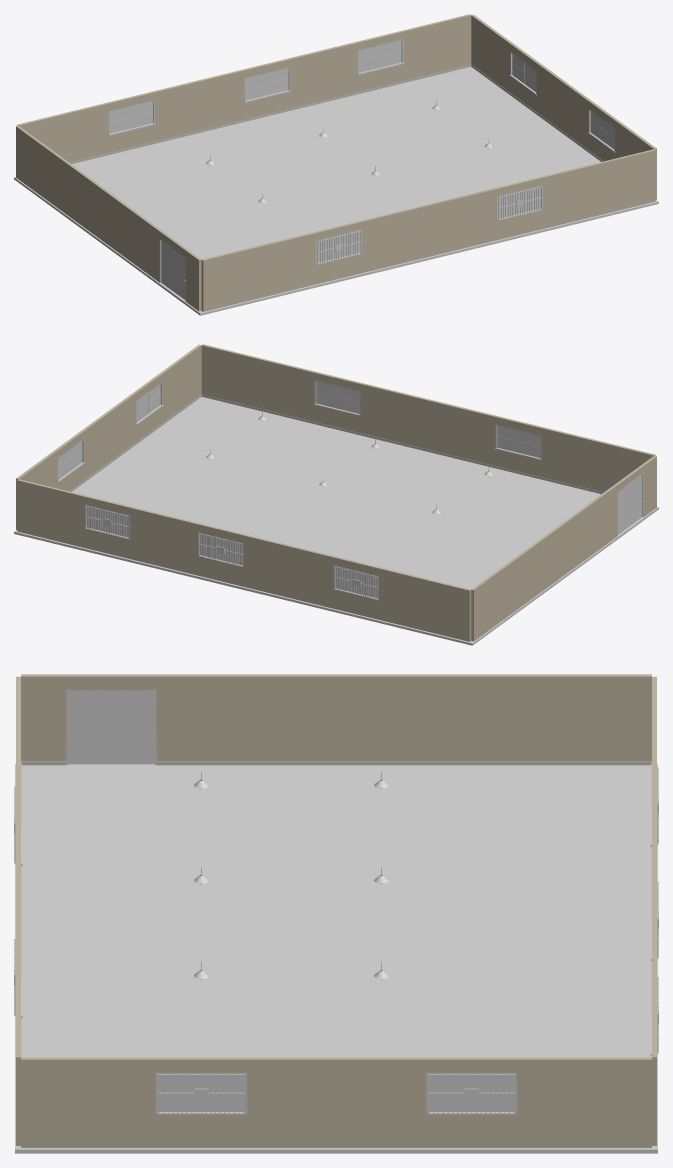
Rendered from room-hall-terrazzo.glb.
3 views of the same model, one above another, from view 1: azimuth 30°, elevation 25°; view 2: azimuth 150°, elevation 25°; view 3: azimuth 270°, elevation 25° (orthographic). The views are drawn at different scales.
Parts seen in each view (by area): view 1: floor, wall_front, wall_back, wall_left, wall_right, glass_wall_back, room-hall-terrazzo, glass_wall_front, glass_wall_right; view 2: floor, wall_back, wall_front, wall_left, wall_right, room-hall-terrazzo, glass_wall_back, glass_wall_front, glass_wall_right; view 3: floor, wall_left, wall_right, glass_wall_right, room-hall-terrazzo, wall_back, wall_front.
Boxes of the visible parts, x1,y1,x2,y2 form: floor: (72, 67, 600, 259); wall_front: (201, 149, 655, 311); wall_back: (17, 14, 471, 164); wall_left: (16, 125, 201, 311); wall_right: (471, 14, 656, 199); glass_wall_back: (110, 41, 401, 133); room-hall-terrazzo: (14, 100, 658, 315); glass_wall_front: (317, 187, 540, 262); glass_wall_right: (512, 54, 614, 149); floor: (72, 397, 600, 589); wall_back: (17, 479, 471, 641); wall_front: (201, 344, 655, 494); wall_left: (471, 455, 656, 641); wall_right: (16, 344, 201, 529); room-hall-terrazzo: (14, 411, 658, 645); glass_wall_back: (87, 506, 378, 598); glass_wall_front: (316, 382, 539, 457); glass_wall_right: (58, 384, 160, 479); floor: (21, 765, 651, 1057); wall_left: (21, 674, 651, 765); wall_right: (21, 1057, 651, 1147); glass_wall_right: (158, 1075, 513, 1111); room-hall-terrazzo: (15, 764, 657, 1153); wall_back: (650, 676, 658, 1145); wall_front: (14, 676, 22, 1145).
Size of the model in its own units: 24.35 by 2.75 by 17.18.
